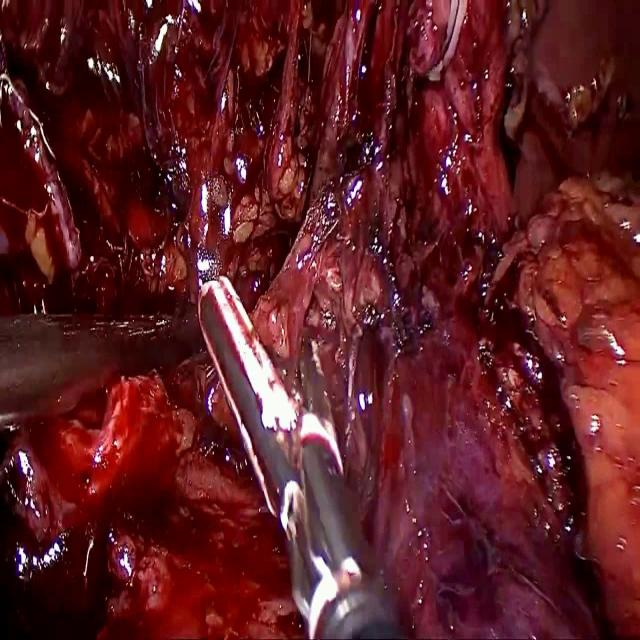surgical-area: (0, 0, 640, 639)
surgical-tool: (196, 273, 411, 639), (0, 305, 201, 432)
